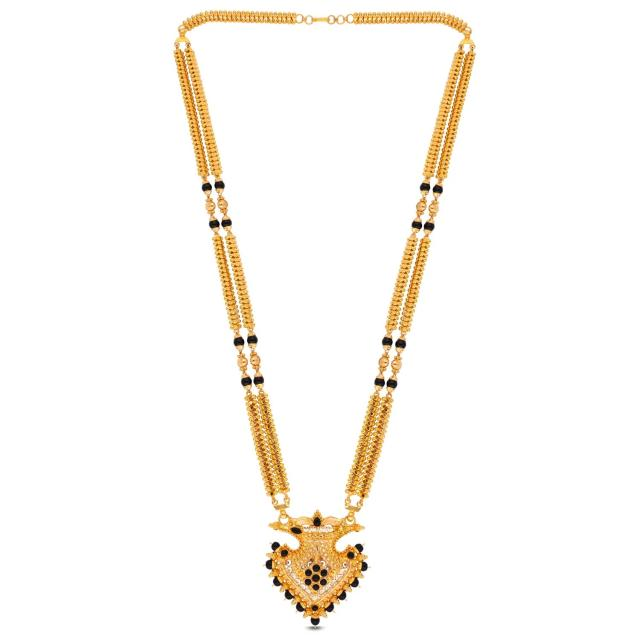missing gem: (335, 528, 348, 535)
